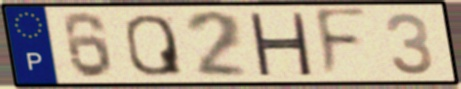2: (183, 9, 254, 80)
3: (384, 10, 436, 76)
6: (61, 10, 116, 81)
F: (312, 5, 371, 82)
H: (245, 11, 315, 77)
Q: (122, 12, 186, 78)
